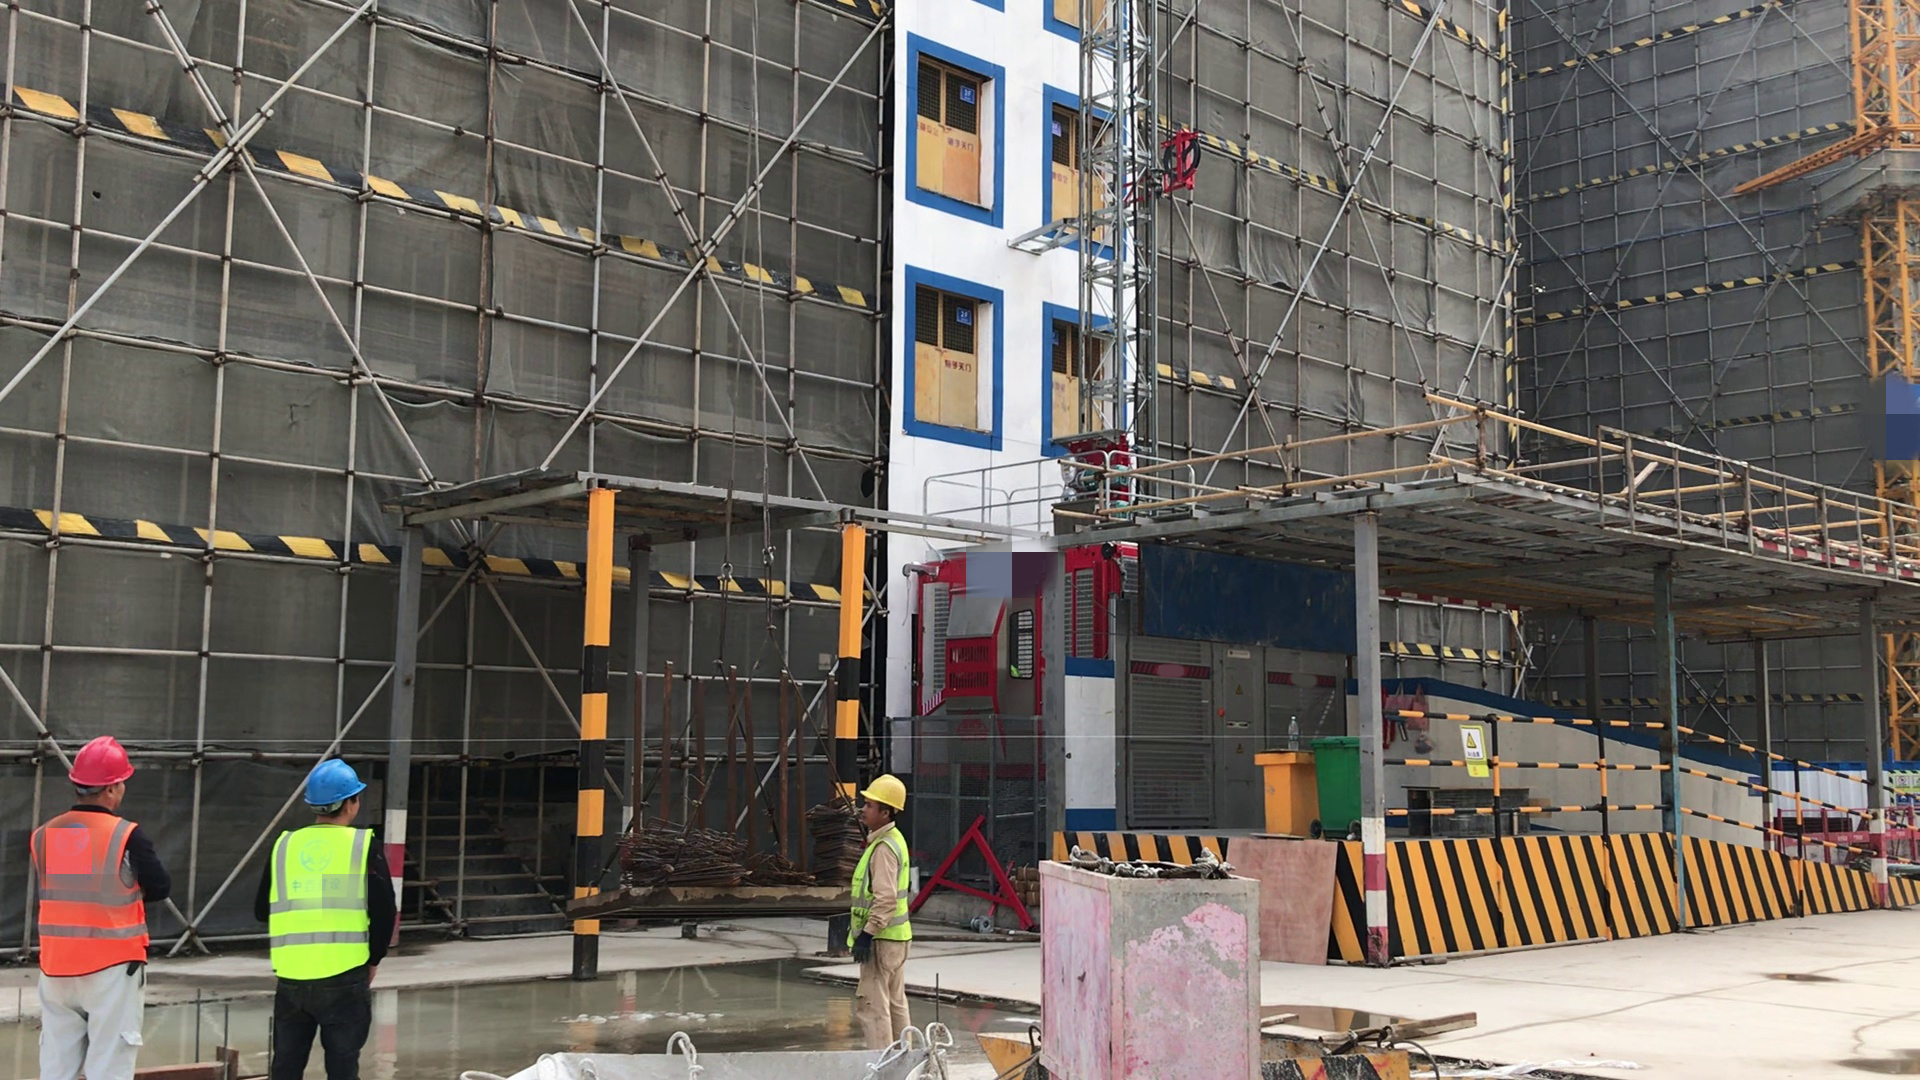helmet: (294, 752, 374, 813), (62, 730, 133, 789), (858, 765, 913, 819)
person: (29, 723, 174, 1080), (257, 754, 415, 1080), (831, 765, 940, 1063)
vest: (31, 809, 153, 978), (264, 820, 388, 982), (843, 829, 922, 956)
